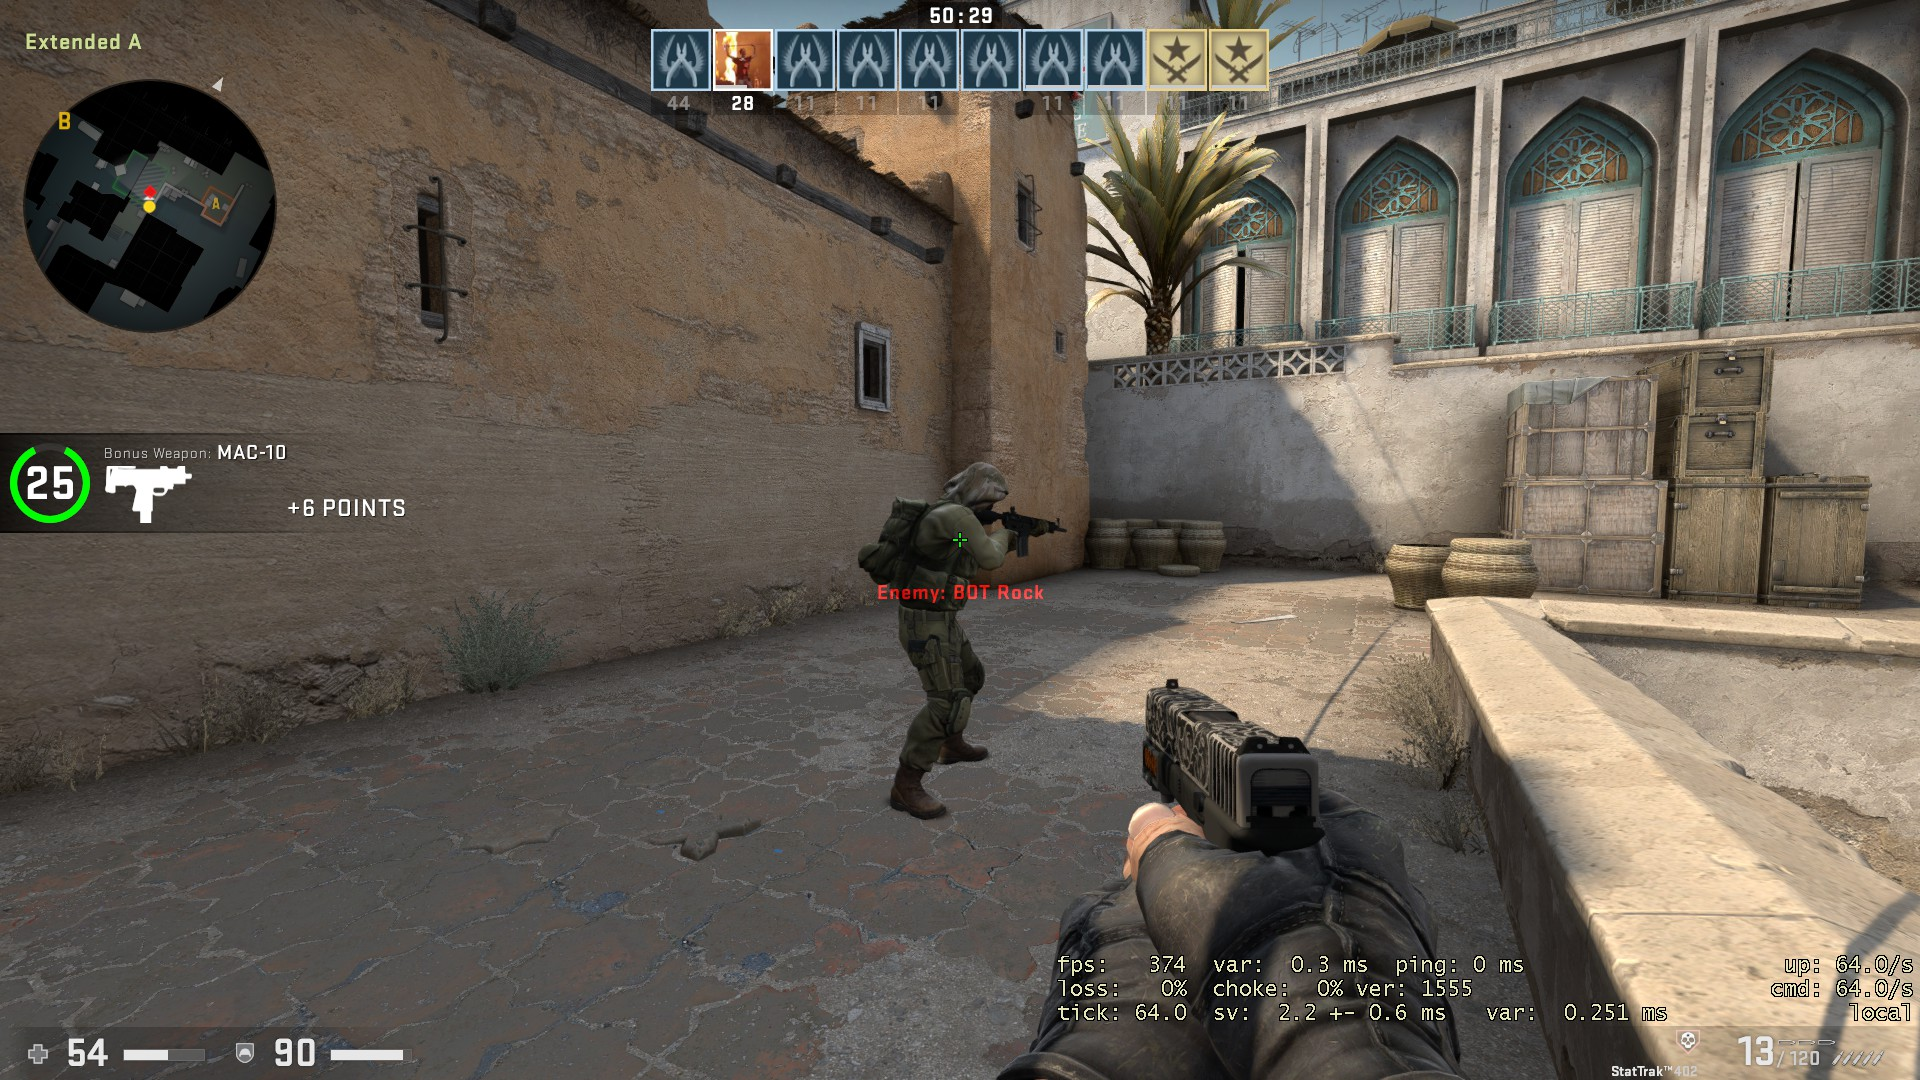player: (853, 447, 1073, 826)
